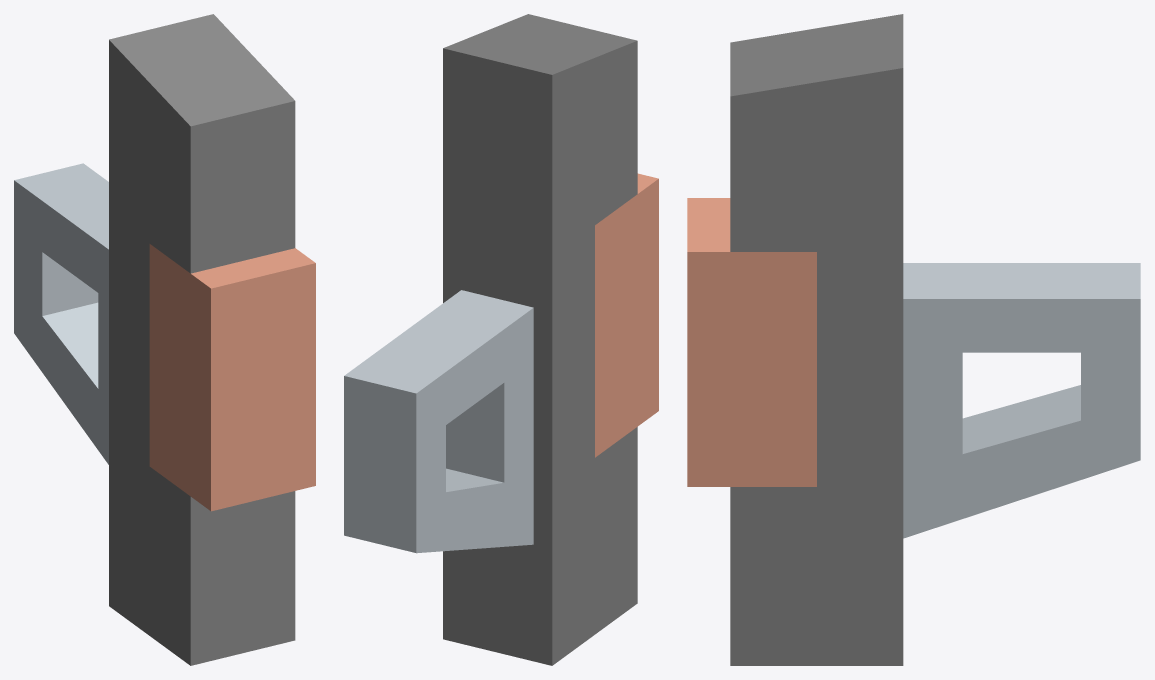
Rendered from itemWeapon.fbx.
The picture shows the model from 3 angles, left to right: view 1: azimuth 30°, elevation 25°; view 2: azimuth 150°, elevation 25°; view 3: azimuth 270°, elevation 25°; orthographic projection. The views are drawn at different scales.
Parts seen in each view (by area): view 1: itemWeapon; view 2: itemWeapon; view 3: itemWeapon.
Boxes of the visible parts, x1,y1,x2,y2 form: itemWeapon: (14, 14, 315, 665); itemWeapon: (344, 14, 658, 665); itemWeapon: (687, 14, 1140, 665).
Size of the model in its own units: 59.15 by 306 by 210.
